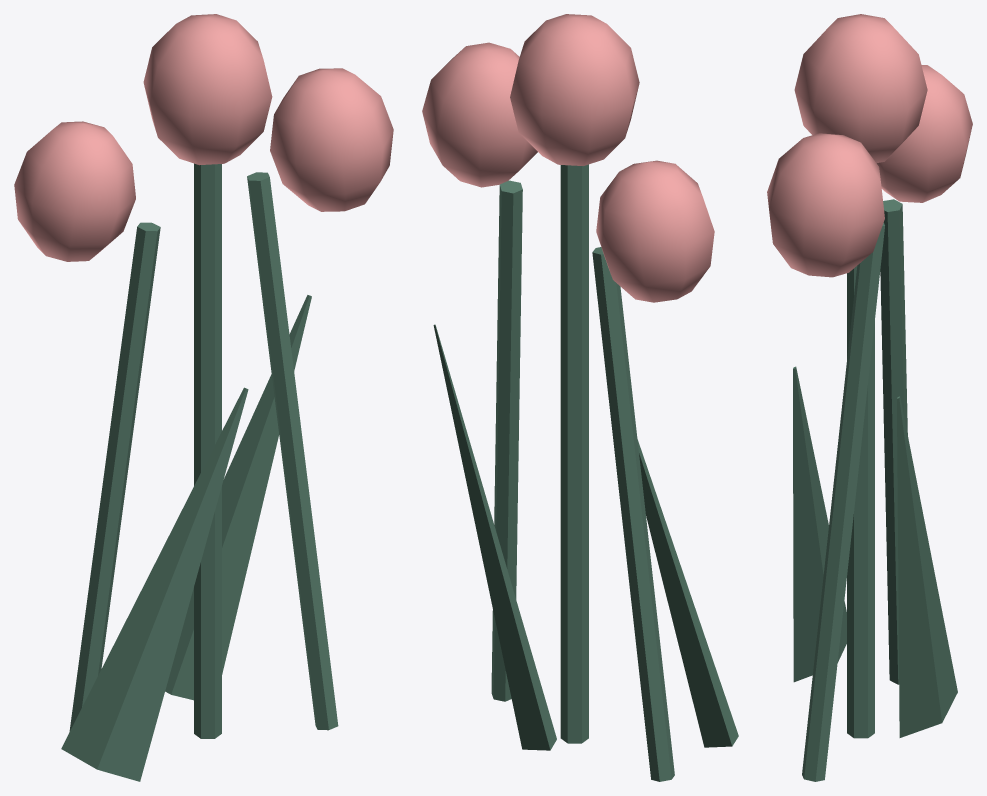
File: tulip-cluster-red.glb
3 renders of one model, left to right at view 1: azimuth 30°, elevation 25°; view 2: azimuth 150°, elevation 25°; view 3: azimuth 270°, elevation 25°, orthographic.
Parts seen in each view (by area): view 1: tulip-cluster-red; view 2: tulip-cluster-red; view 3: tulip-cluster-red.
Part boxes in pixels (box(x1,y1,x2,y2)): tulip-cluster-red: box(14, 14, 393, 781); tulip-cluster-red: box(422, 14, 738, 781); tulip-cluster-red: box(767, 14, 972, 781).
Bounding box in the file's own units: 0.2072 × 0.45 × 0.1175.
